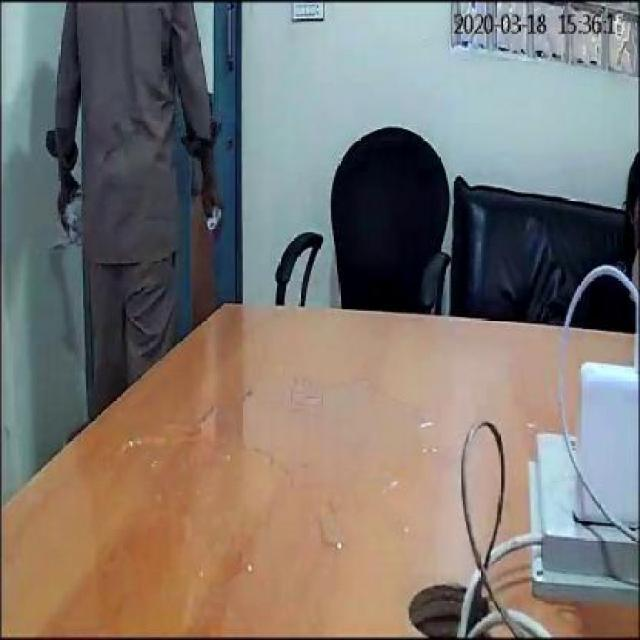spill: (145, 369, 468, 548)
